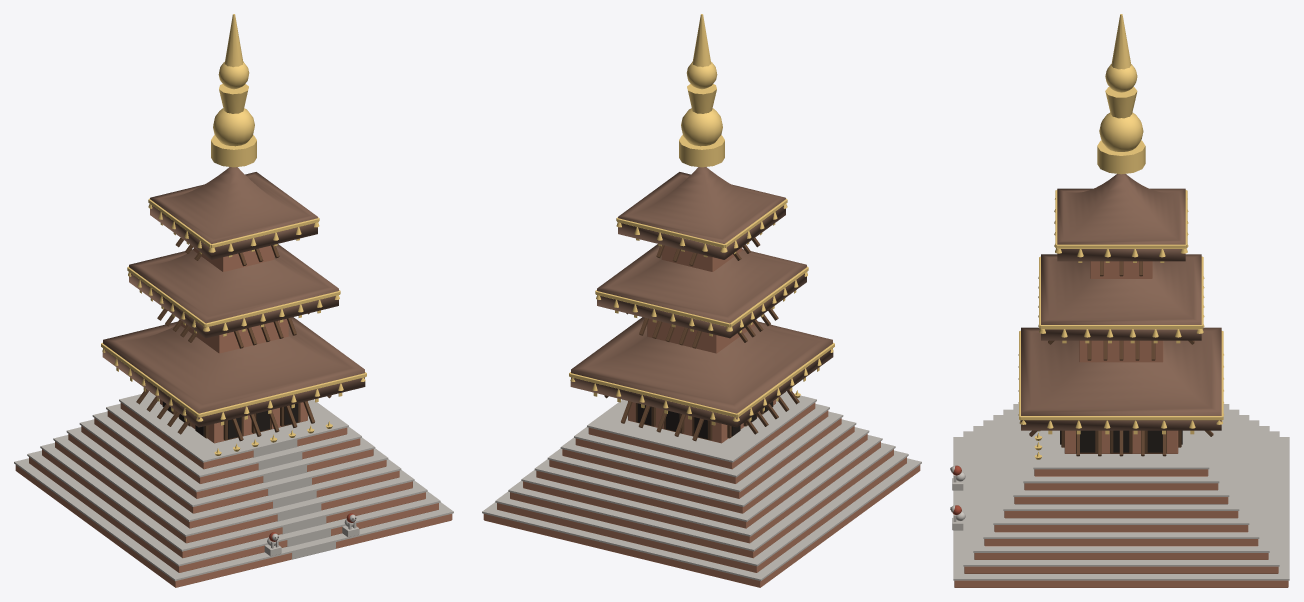
File: maju_dega.glb
The picture shows the model from 3 angles, left to right: view 1: azimuth 30°, elevation 25°; view 2: azimuth 150°, elevation 25°; view 3: azimuth 270°, elevation 25°; orthographic projection. The views are drawn at different scales.
Visible parts, largest first — view 1: maju_dega; view 2: maju_dega; view 3: maju_dega.
Boxes of the visible parts, x1,y1,x2,y2 form: maju_dega: (14, 14, 453, 587); maju_dega: (482, 14, 921, 587); maju_dega: (950, 14, 1289, 587).
Bounding box in the file's own units: 1.01 × 1.66 × 1.01.
